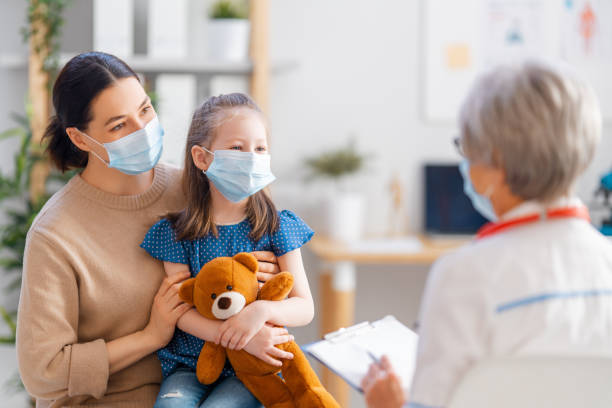with mask: (188, 97, 280, 210), (81, 70, 173, 183), (441, 117, 533, 230)
